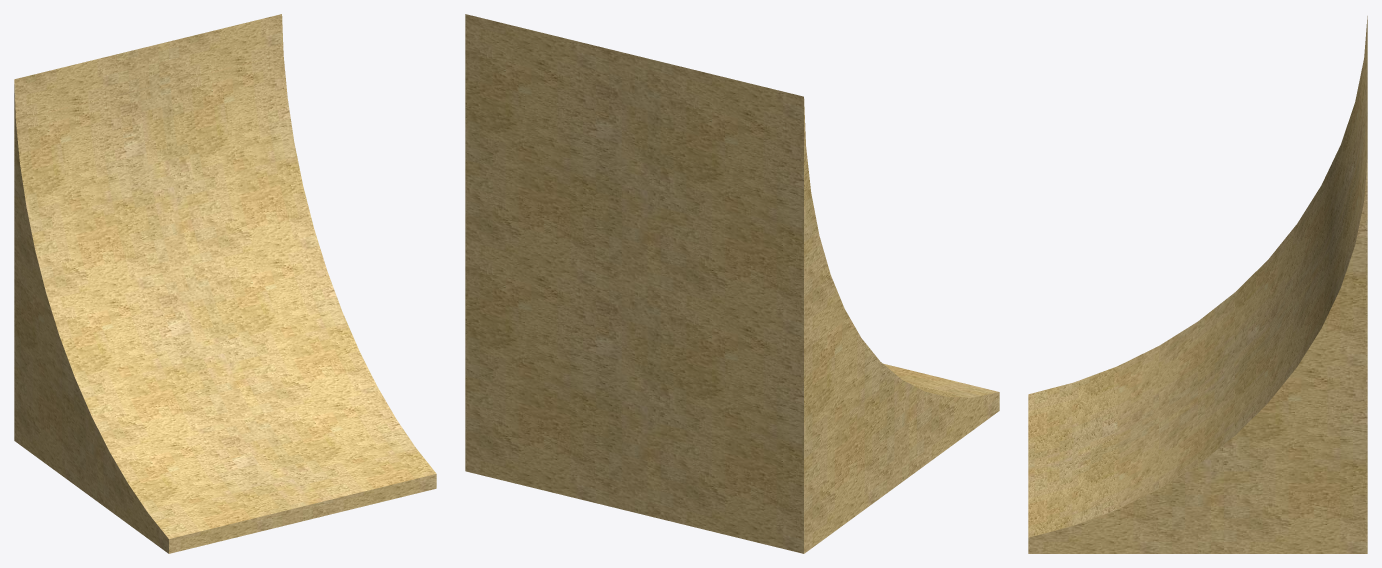
File: right.fbx
3 views of the same model, side by side, from view 1: azimuth 30°, elevation 25°; view 2: azimuth 150°, elevation 25°; view 3: azimuth 270°, elevation 25° (orthographic). The views are drawn at different scales.
Visible parts, largest first — view 1: Model; view 2: Model; view 3: Model.
Part boxes in pixels (x1,y1,x2,y2): Model: [14, 14, 436, 553]; Model: [465, 14, 999, 553]; Model: [1028, 16, 1367, 553].
Size of the model in its own units: 1000 by 1290 by 1000.
